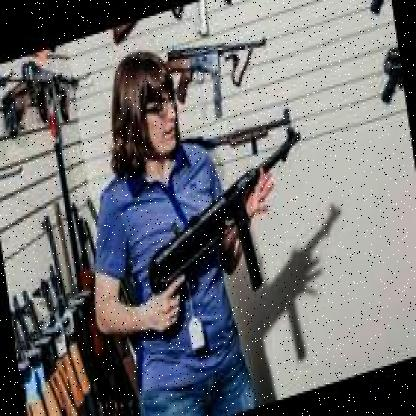rifle: (134, 118, 322, 322)
